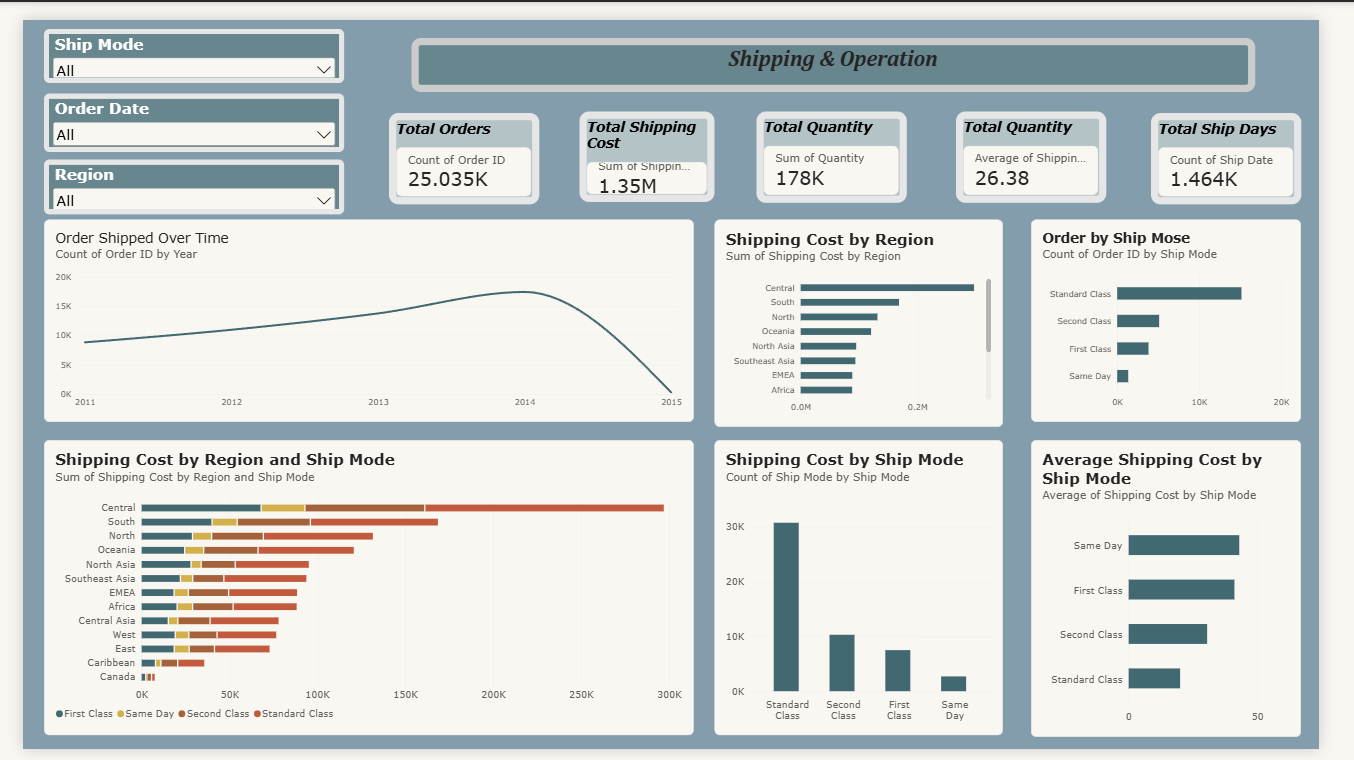

This screenshot's page, from the dashboard's own definition file:
{"tool":"powerbi","page":{"name":"Shipping & Operation","canvas":[1920,1080],"ordinal":3},"visuals":[{"type":"columnChart","title":"Shipping Cost by Ship Mode","fields":{"Category":["Orders.Ship Mode"],"Y":["CountNonNull(Orders.Ship Mode)"]},"box":[1025,622.5,427.5,437.5],"z":0},{"type":"clusteredBarChart","title":"Order by Ship Mose","fields":{"Category":["Orders.Ship Mode"],"Y":["Count(Orders.Order ID)"]},"box":[1492.5,295,400,300],"z":1000},{"type":"clusteredBarChart","title":"Average Shipping Cost by Ship Mode","fields":{"Category":["Orders.Ship Mode"],"Y":["Avg(Orders.Shipping Cost)"]},"box":[1492.5,622.5,400,440],"z":2000},{"type":"lineChart","title":"Order Shipped Over Time","fields":{"Category":["Orders.Ship Date.Variation.Date Hierarchy.Year"],"Y":["CountNonNull(Orders.Order ID)"]},"box":[30,295,962.5,300],"z":3000},{"type":"clusteredBarChart","title":"Shipping Cost by Region","fields":{"Category":["Orders.Region"],"Y":["Sum(Orders.Shipping Cost)"]},"box":[1025,295,427.5,307.5],"z":4000},{"type":"barChart","title":"Shipping Cost by Region and Ship Mode","fields":{"Category":["Orders.Region"],"Series":["Orders.Ship Mode"],"Y":["Sum(Orders.Shipping Cost)"]},"box":[30,622.5,962.5,437.5],"z":5000},{"type":"slicer","fields":{"Values":["Orders.Ship Mode"]},"box":[30,13.3,444.4,80],"z":6000},{"type":"cardVisual","title":"Total Orders","fields":{"Data":["Count(Orders.Order ID)"]},"box":[542.5,137.5,222.5,135],"z":7000},{"type":"cardVisual","title":"Total Shipping Cost","fields":{"Data":["Sum(Orders.Shipping Cost)"]},"box":[825,135,200,134],"z":8000},{"type":"cardVisual","title":"Total Quantity","fields":{"Data":["Sum(Orders.Quantity)"]},"box":[1087.5,135,222.5,135],"z":9000},{"type":"cardVisual","title":"Total Quantity","fields":{"Data":["Avg(Orders.Shipping Cost)"]},"box":[1382.5,135,222.5,135],"z":10000},{"type":"cardVisual","title":"Total Ship Days","fields":{"Data":["Count(Orders.Ship Date)"]},"box":[1670,137.5,222.5,135],"z":11000},{"type":"slicer","fields":{"Values":["Orders.Region"]},"box":[30,205.6,444.4,81.1],"z":12000},{"type":"textbox","box":[575,27.5,1250,80],"z":13000},{"type":"slicer","fields":{"Values":["Orders.Order Date"]},"box":[30,107.8,444.4,86.7],"z":14000}]}

Visuals, with their boxes in screenshot pixels (x1, y1, x2, y2), scaled from the page's 1920x1080 canvas onto the 1354x760 screenshot:
"Shipping Cost by Ship Mode" columnChart: region(723, 438, 1024, 746)
"Order by Ship Mose" clusteredBarChart: region(1053, 208, 1335, 419)
"Average Shipping Cost by Ship Mode" clusteredBarChart: region(1053, 438, 1335, 748)
"Order Shipped Over Time" lineChart: region(21, 208, 700, 419)
"Shipping Cost by Region" clusteredBarChart: region(723, 208, 1024, 424)
"Shipping Cost by Region and Ship Mode" barChart: region(21, 438, 700, 746)
slicer - Orders.Ship Mode: region(21, 9, 335, 66)
"Total Orders" cardVisual: region(383, 97, 539, 192)
"Total Shipping Cost" cardVisual: region(582, 95, 723, 189)
"Total Quantity" cardVisual: region(767, 95, 924, 190)
"Total Quantity" cardVisual: region(975, 95, 1132, 190)
"Total Ship Days" cardVisual: region(1178, 97, 1335, 192)
slicer - Orders.Region: region(21, 145, 335, 202)
textbox: region(405, 19, 1287, 76)
slicer - Orders.Order Date: region(21, 76, 335, 137)
